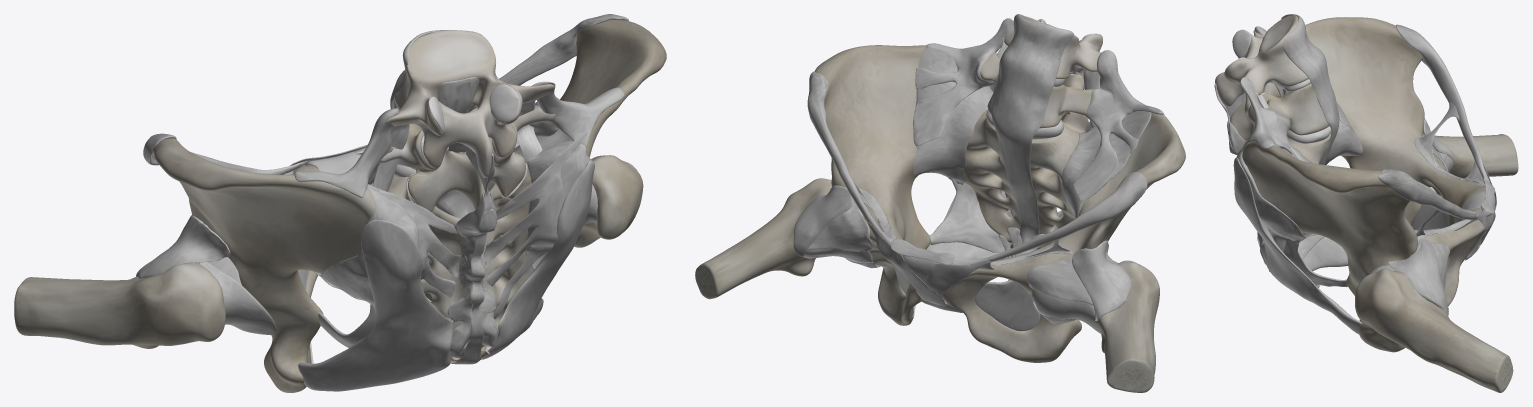
The model's file is ligaments-female-pelvis.glb.
The picture shows the model from 3 angles, left to right: view 1: azimuth 30°, elevation 25°; view 2: azimuth 150°, elevation 25°; view 3: azimuth 270°, elevation 25°; orthographic projection. The views are drawn at different scales.
Parts seen in each view (by area): view 1: Object_3, Object_46; view 2: Object_3; view 3: Object_3.
Boxes of the visible parts, bbox=[...] form: Object_3: bbox=[14, 14, 666, 392]; Object_46: bbox=[517, 100, 542, 163]; Object_3: bbox=[695, 14, 1185, 392]; Object_3: bbox=[1214, 14, 1518, 392].
Bounding box in the file's own units: 0.8787 × 0.5299 × 0.5032.
